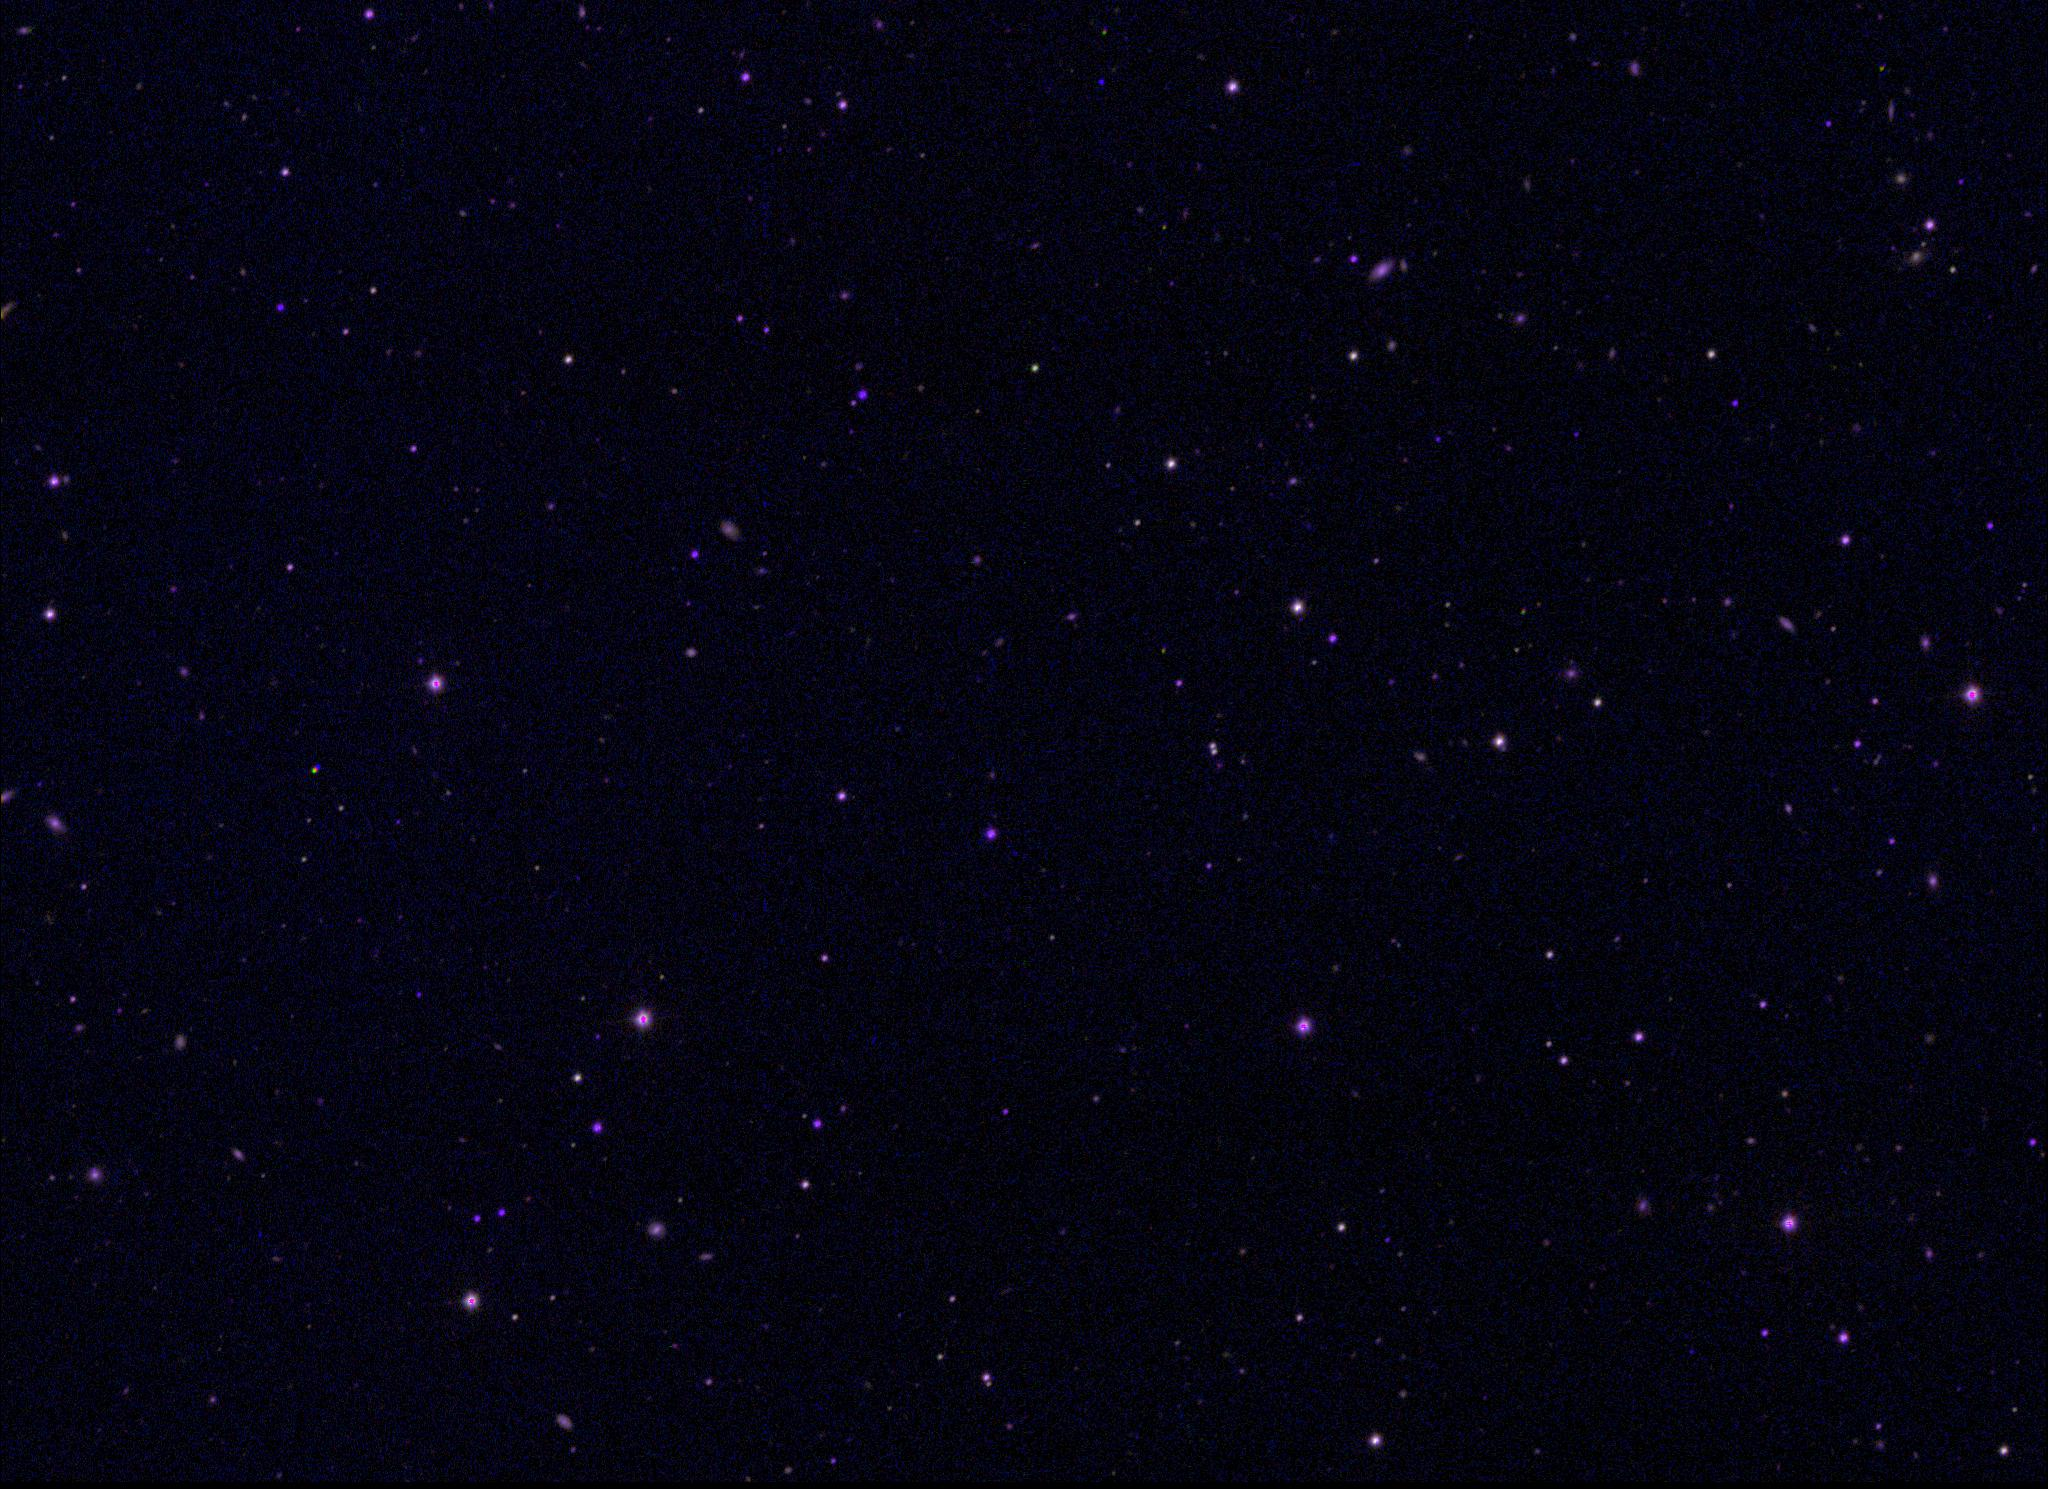L: (1094, 75, 1108, 89)
